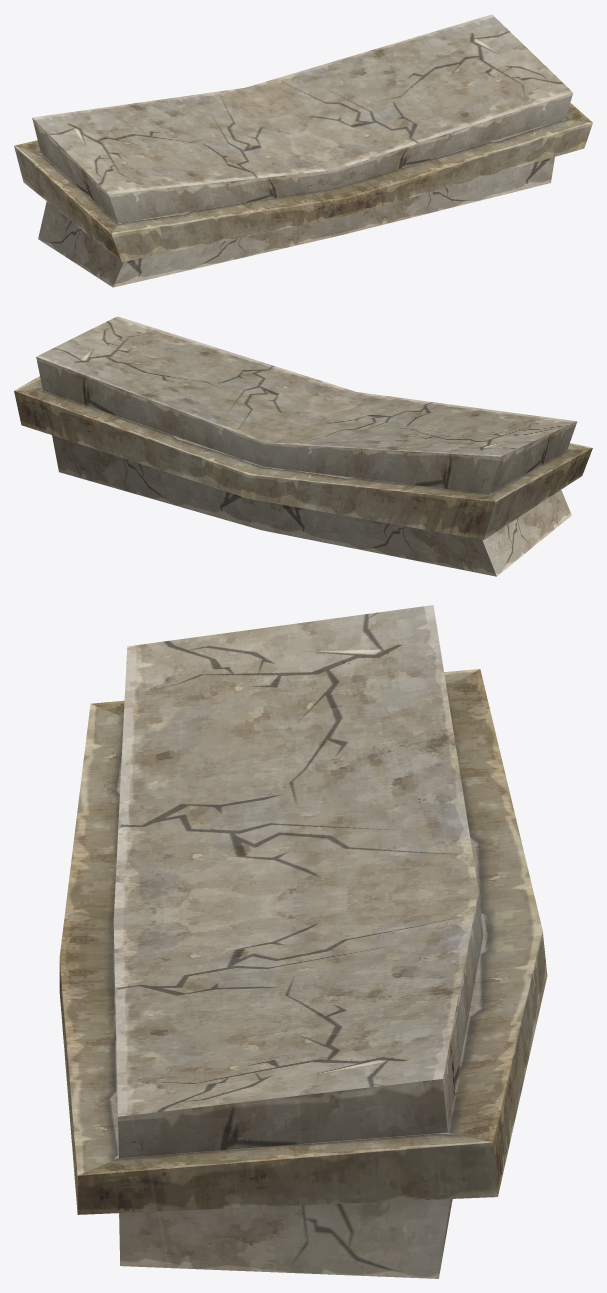
Rendered from Toon_Support_Full.fbx.
The picture shows the model from 3 angles, top to bottom: view 1: azimuth 30°, elevation 25°; view 2: azimuth 150°, elevation 25°; view 3: azimuth 270°, elevation 25°; orthographic projection. The views are drawn at different scales.
Visible parts, largest first — view 1: Toon_Support_Full; view 2: Toon_Support_Full; view 3: Toon_Support_Full.
Part boxes in pixels (x1,y1,x2,y2): Toon_Support_Full: (14, 14, 592, 287); Toon_Support_Full: (14, 316, 592, 576); Toon_Support_Full: (59, 605, 547, 1278).
Size of the model in its own units: 10.68 by 2.6 by 4.72.
